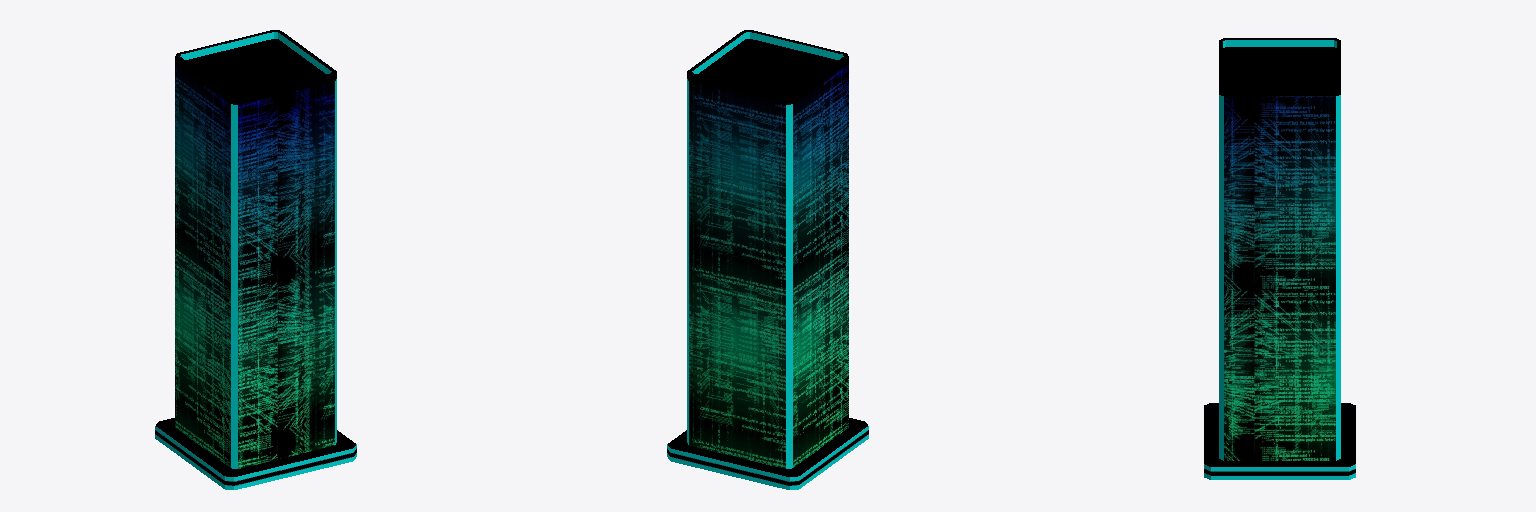
The picture shows the model from 3 angles: view 1: azimuth 30°, elevation 25°; view 2: azimuth 150°, elevation 25°; view 3: azimuth 270°, elevation 25°; orthographic projection.
Parts seen in each view (by area): view 1: Cube; view 2: Cube; view 3: Cube.
Boxes of the visible parts, x1,y1,x2,y2 form: Cube: [155, 30, 356, 489]; Cube: [667, 30, 868, 489]; Cube: [1204, 38, 1355, 479].
Size of the model in its own units: 74.49 by 207 by 74.49.
3 materials, 1 textured.